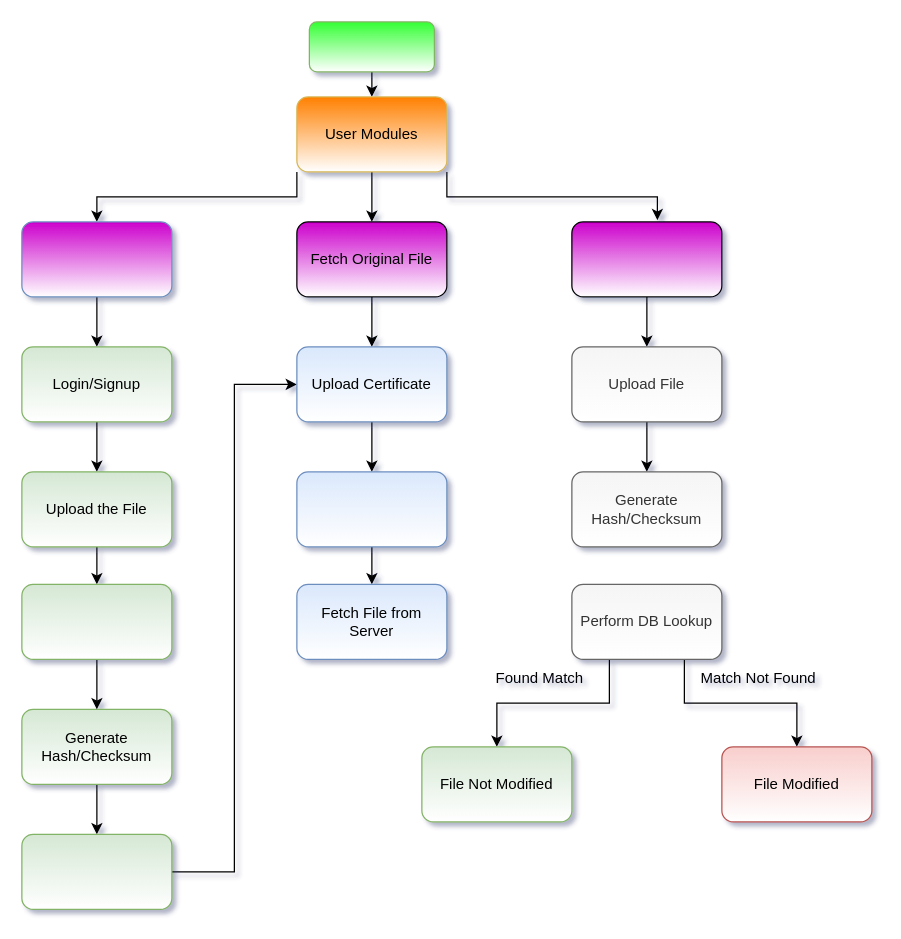
Image size: 901x939. Some labels were removed from this diagram. Here are the shapes that lost their labels. From the top down, the box of each, then its label:
(308, 21, 434, 72): EduSign
(21, 221, 172, 297): Upload and Sign
(571, 221, 722, 297): Upload and Verify
(296, 471, 447, 547): Verify Password
(21, 583, 172, 659): Secure with Password
(21, 833, 172, 909): Generate unique Certificate
